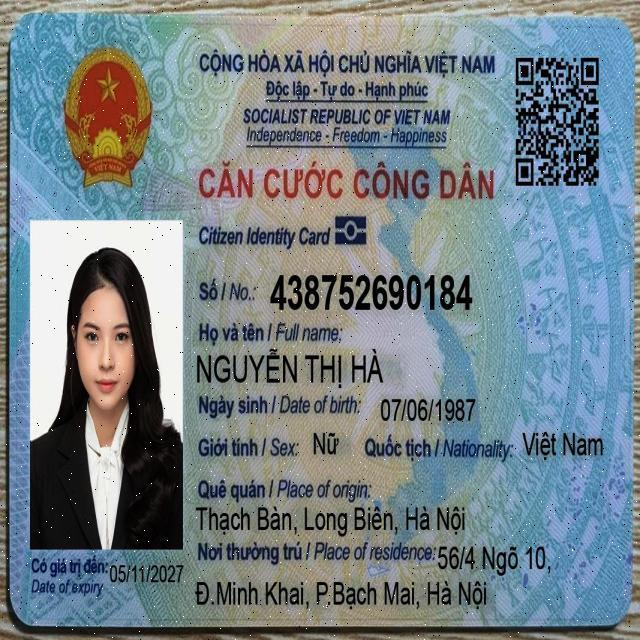current_place: (192, 573, 492, 617), (434, 538, 554, 578)
dob: (375, 388, 478, 429)
expire_date: (106, 555, 187, 590)
gender: (308, 424, 342, 462)
id: (266, 267, 477, 316)
name: (192, 343, 386, 392)
nationality: (518, 423, 607, 466)
origin_place: (193, 499, 467, 541)
